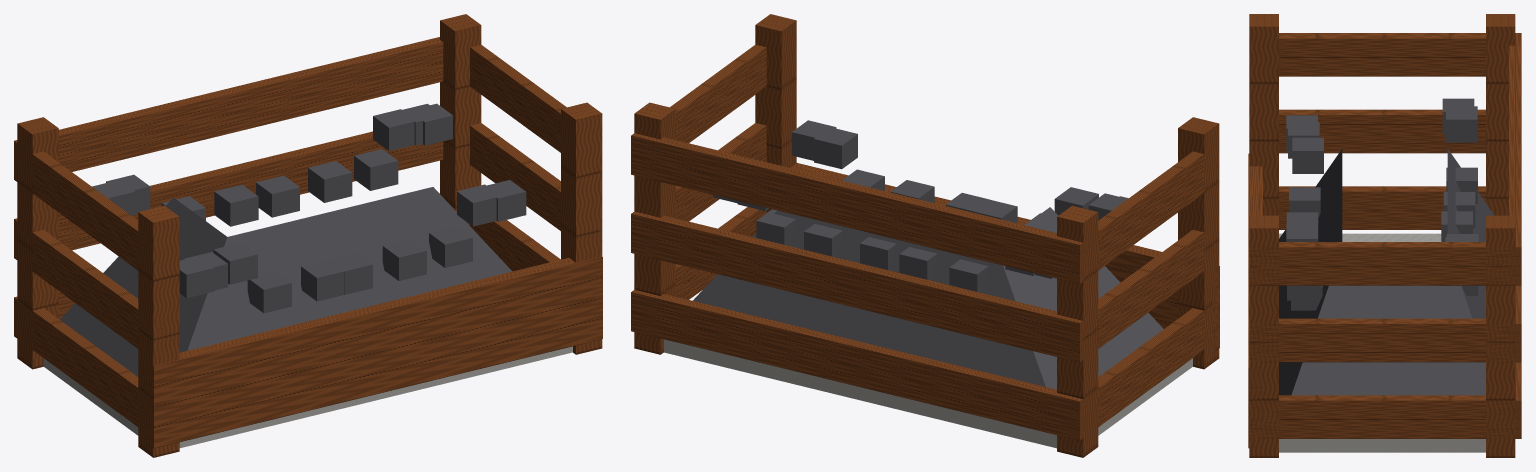
File: blacksmith-forge-and-armoury-blacksmith-forge-and-armo-a848cf5d__37562.glb
3 renders of one model, left to right at view 1: azimuth 30°, elevation 25°; view 2: azimuth 150°, elevation 25°; view 3: azimuth 270°, elevation 25°, orthographic. The views are drawn at different scales.
Visible parts, largest first — view 1: blacksmith-forge-and-armoury-coal-store-bay; view 2: blacksmith-forge-and-armoury-coal-store-bay; view 3: blacksmith-forge-and-armoury-coal-store-bay.
Boxes of the visible parts, bbox=[...] form: blacksmith-forge-and-armoury-coal-store-bay: bbox=[14, 14, 602, 457]; blacksmith-forge-and-armoury-coal-store-bay: bbox=[631, 14, 1219, 457]; blacksmith-forge-and-armoury-coal-store-bay: bbox=[1248, 14, 1521, 457].
Size of the model in its own units: 2.4 by 1.2 by 1.3.
3 materials, 2 textured.
